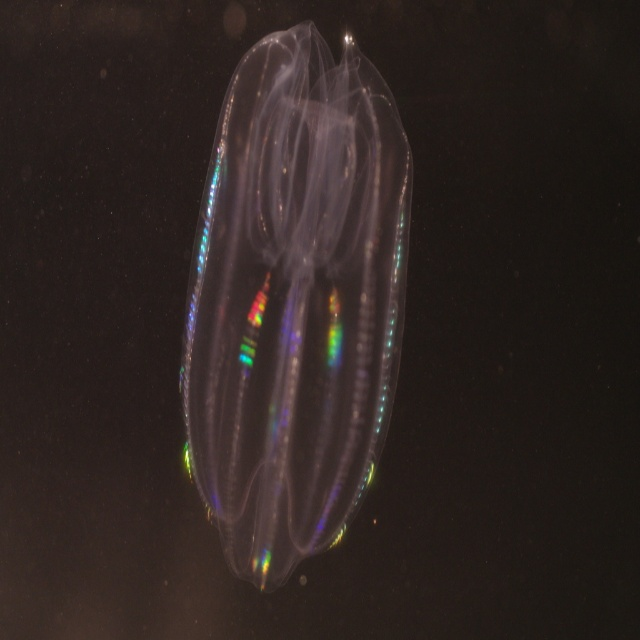Jellyfish: (174, 15, 415, 595)
